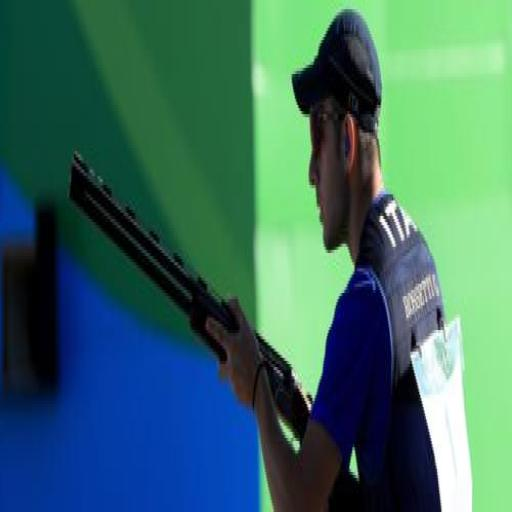shooting: (204, 6, 450, 509)
